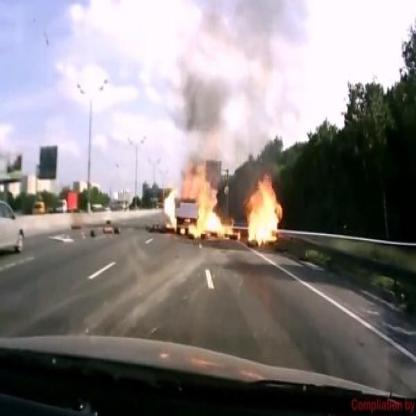fire: (190, 161, 284, 250), (161, 181, 179, 234)
